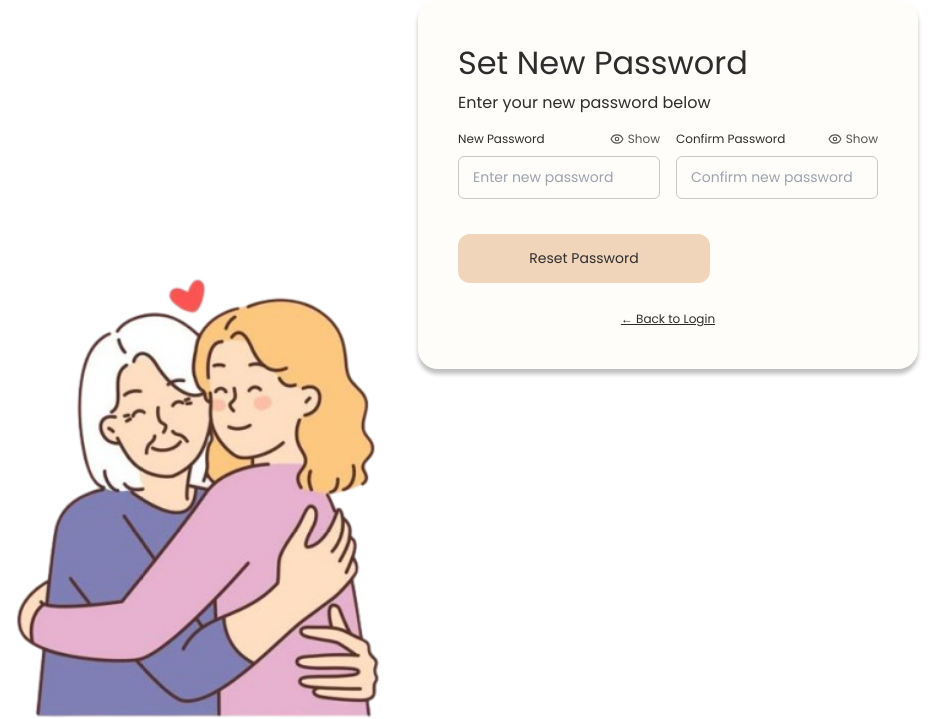
Test: ForgotPasswordNewPassword component › displays error when passwords do not match
This screenshot has width=937, height=719.
Type "NewPassword123!" into the password field with placeholder "Enter new password" at (559, 178), box [458,156,660,199]
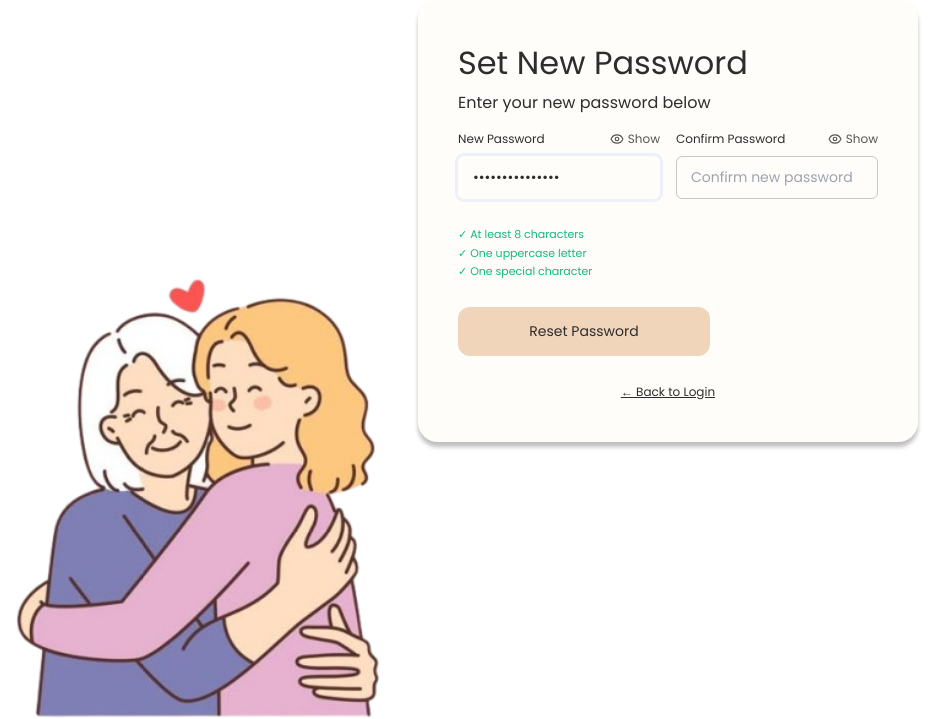
Type "DifferentPassword123!" into the password field with placeholder "Confirm new password" at (777, 178), box [676,156,878,199]
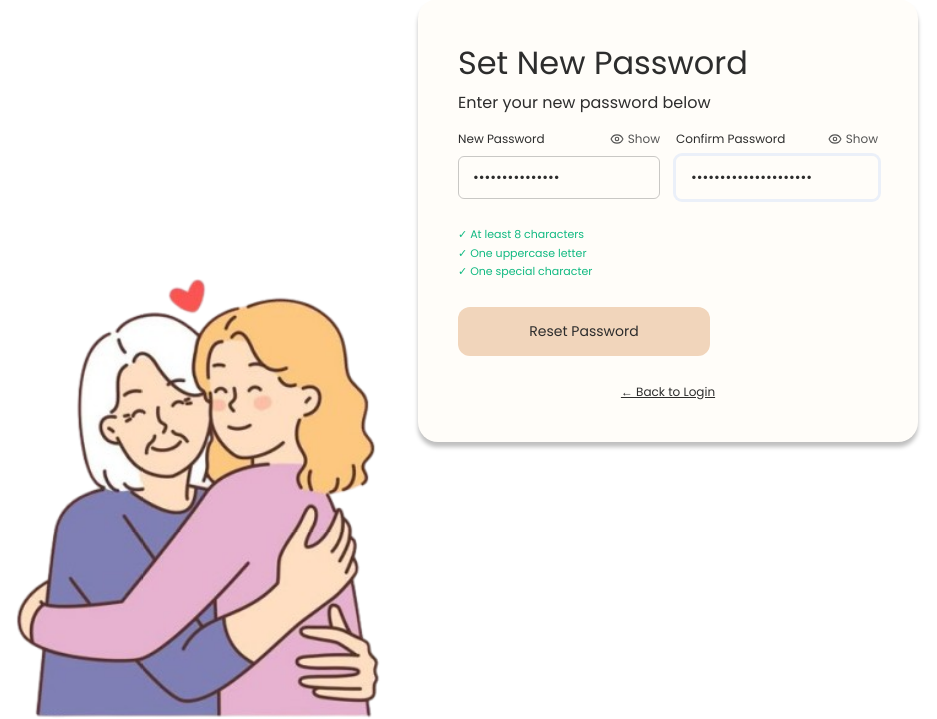
Click the button "Reset Password" at (584, 331), box [458,306,710,356]
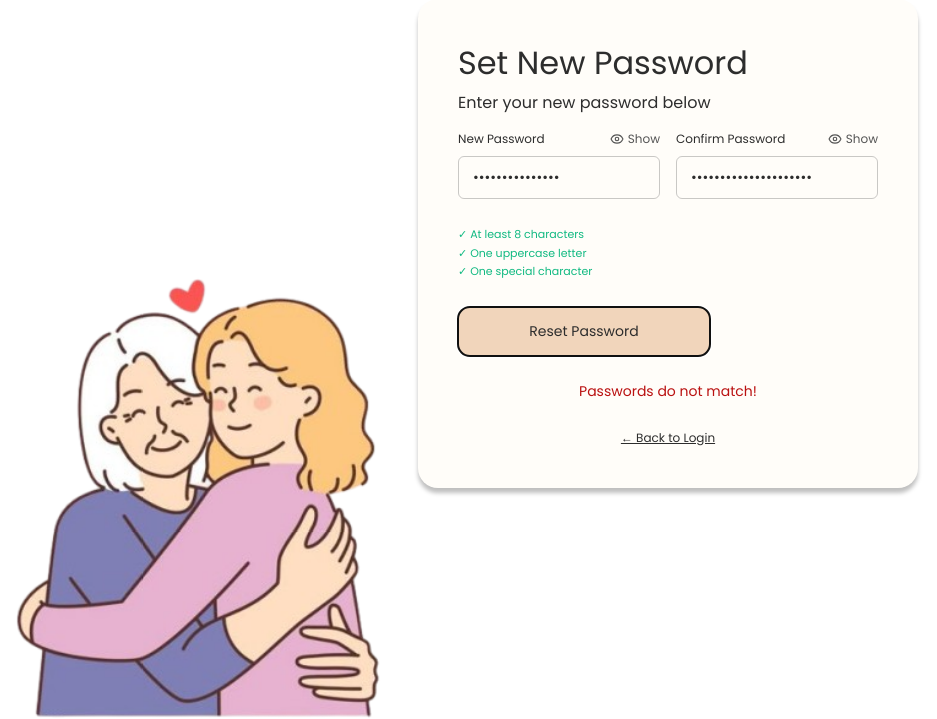
Expected: the text "Passwords do not match!" is shown, [579,380,757,400]
